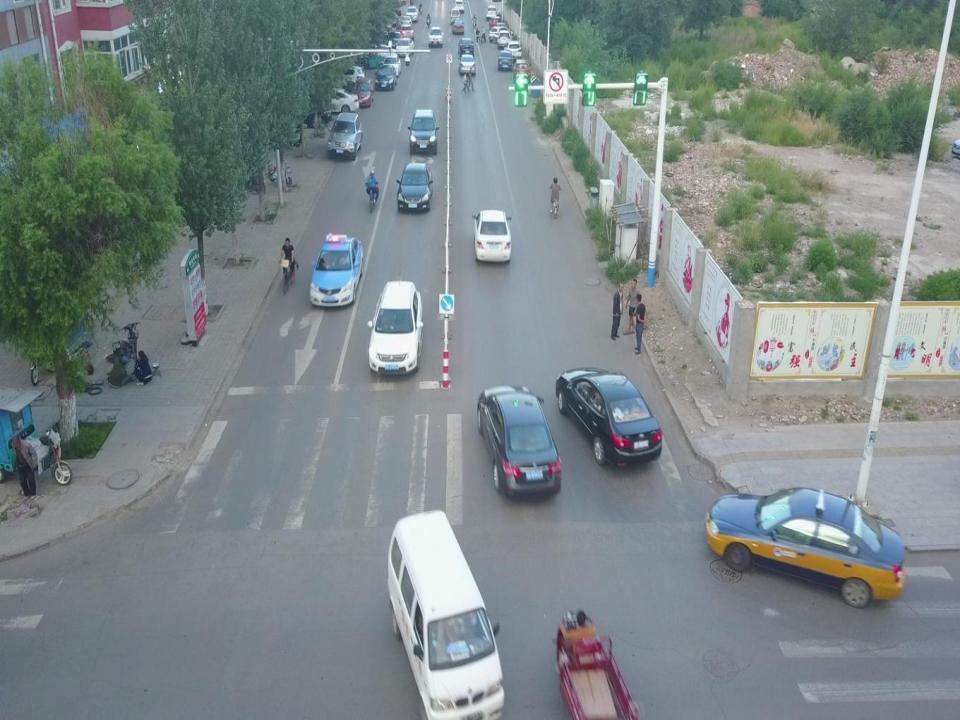car: (706, 486, 908, 606), (556, 367, 662, 466), (477, 385, 563, 497), (367, 280, 424, 374), (311, 234, 364, 307), (472, 209, 512, 263), (396, 162, 433, 212), (326, 112, 363, 159), (406, 108, 440, 156), (307, 87, 359, 113), (281, 104, 331, 128), (326, 65, 366, 91), (352, 78, 374, 107), (374, 65, 398, 89), (512, 58, 531, 83), (366, 44, 394, 60), (488, 26, 514, 43), (382, 55, 402, 77), (457, 54, 476, 75), (503, 40, 522, 60), (394, 38, 414, 56), (428, 26, 444, 46), (497, 50, 513, 70), (458, 38, 474, 56), (395, 25, 414, 40), (497, 30, 512, 48), (386, 31, 402, 47), (405, 5, 418, 22), (452, 18, 464, 34), (486, 5, 498, 20), (489, 15, 501, 30), (388, 14, 399, 27), (454, 0, 464, 12), (401, 15, 411, 26)
van: (388, 509, 505, 718), (449, 8, 460, 25)
